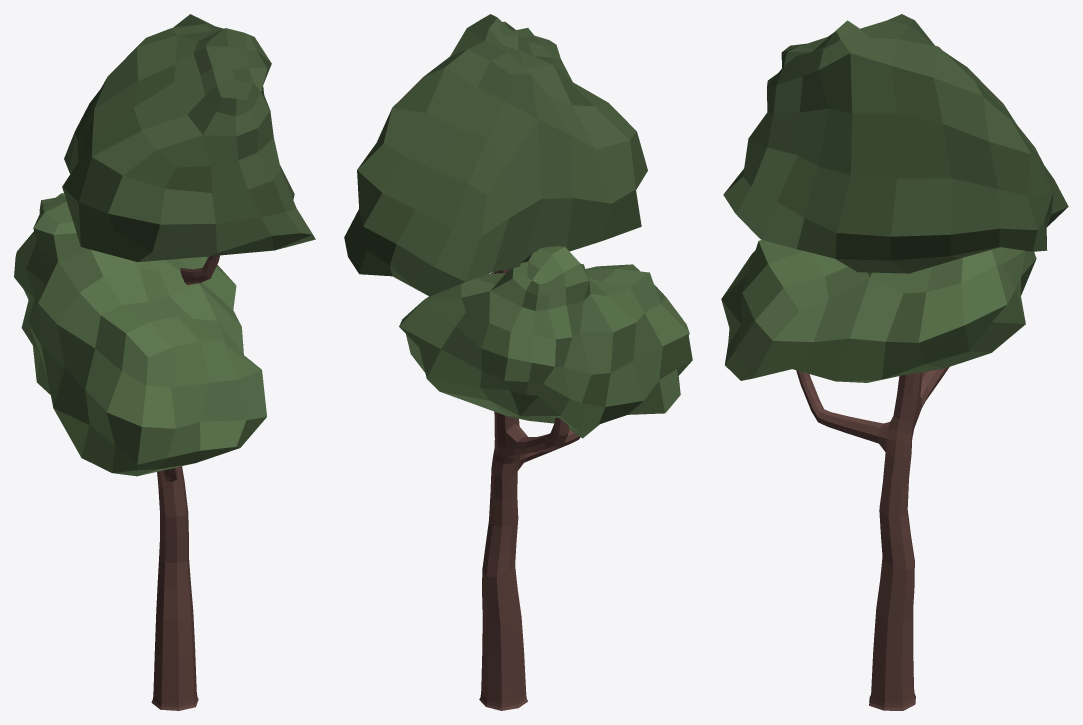
File: tree1.gltf
3 renders of one model, left to right at view 1: azimuth 30°, elevation 25°; view 2: azimuth 150°, elevation 25°; view 3: azimuth 270°, elevation 25°, orthographic. The views are drawn at different scales.
Parts seen in each view (by area): view 1: tree1; view 2: tree1; view 3: tree1.
Part boxes in pixels (x1,y1,x2,y2): tree1: [14, 14, 315, 710]; tree1: [344, 14, 692, 710]; tree1: [721, 14, 1068, 710].
Size of the model in its own units: 1.28 by 3.46 by 1.56.
